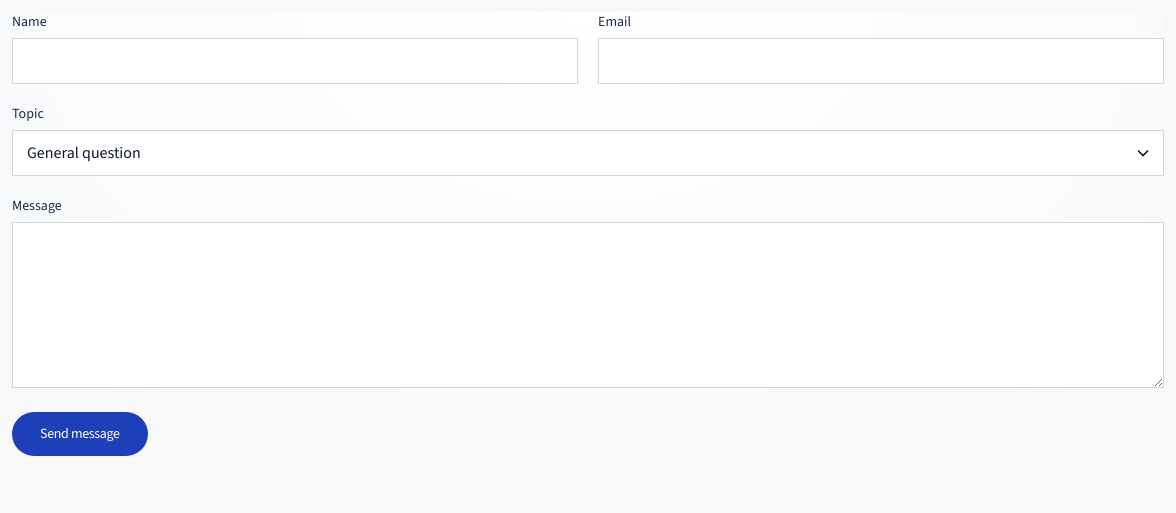
ContactFormActive › shows the server error message on failure
This screenshot has width=1176, height=513.
Type "Ada" into the field labelled "Name". click: (295,61)
box: 12,38 -> 578,84
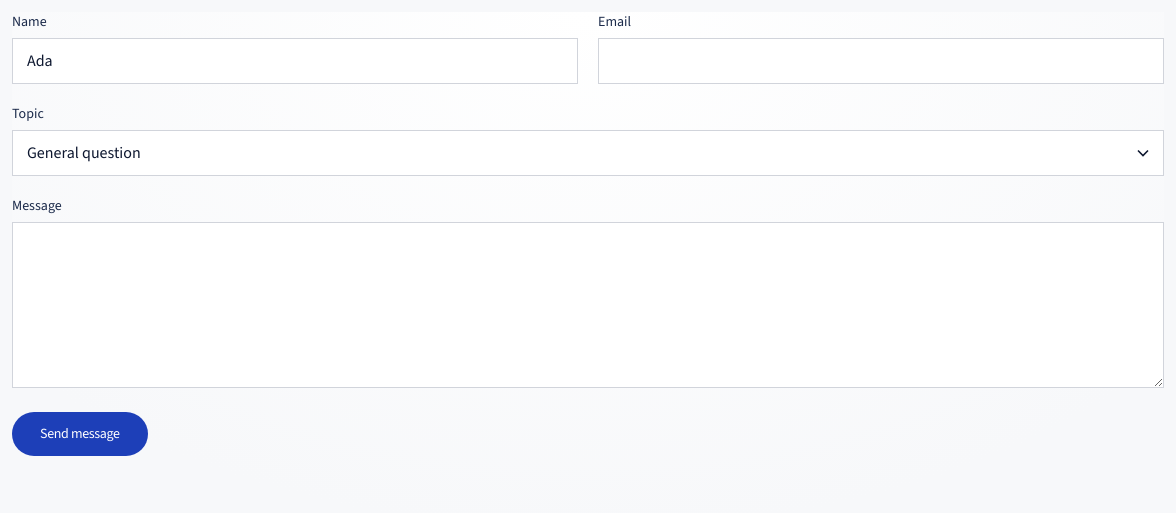
Type "ada@utoronto.ca" into the field labelled "Email". click: (881,61)
box: 598,38 -> 1164,84
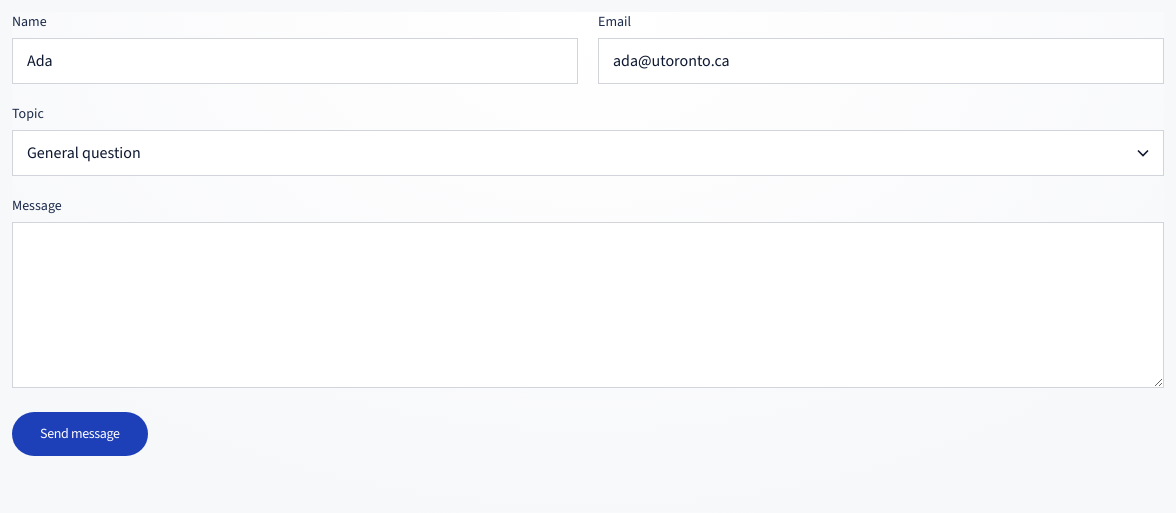
Type "hello there" into the text box labelled "Message". click: (588,305)
box: 12,222 -> 1164,388
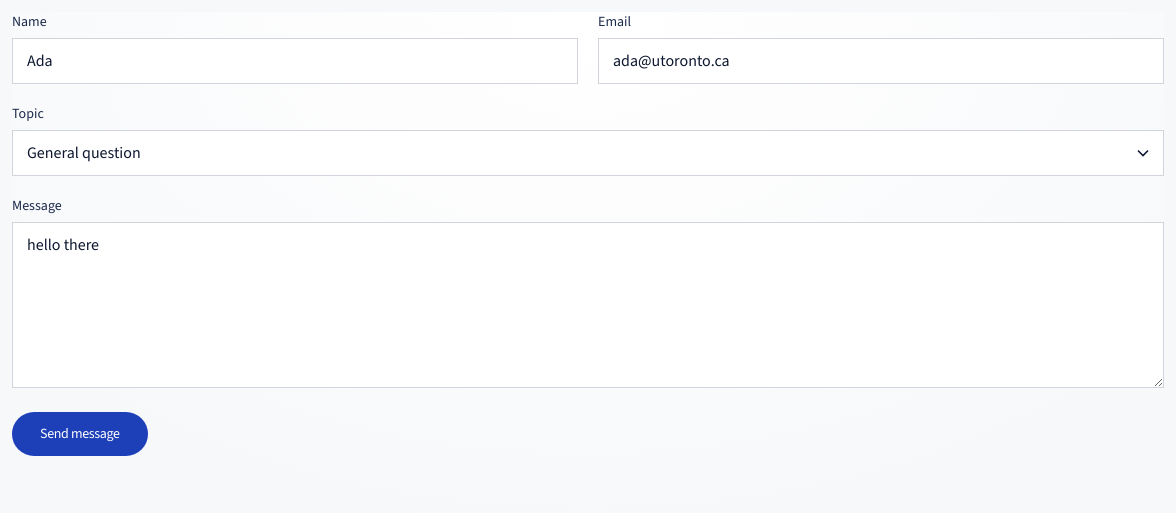
Click the button "Send message". click: (80,434)
box: 12,412 -> 148,456
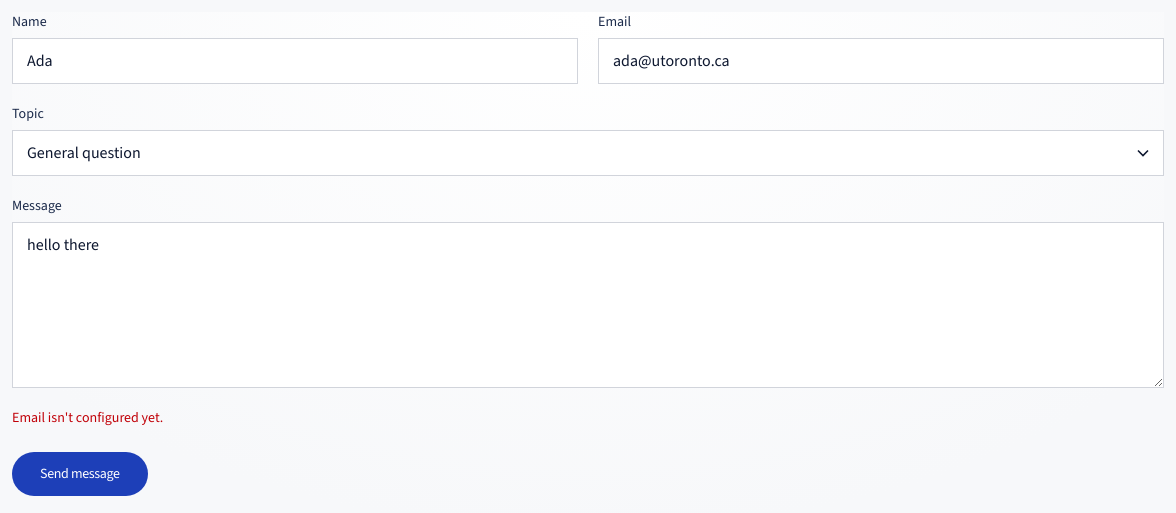
Check: the message reads "Email isn't configured yet.", box 12,408 -> 163,427
